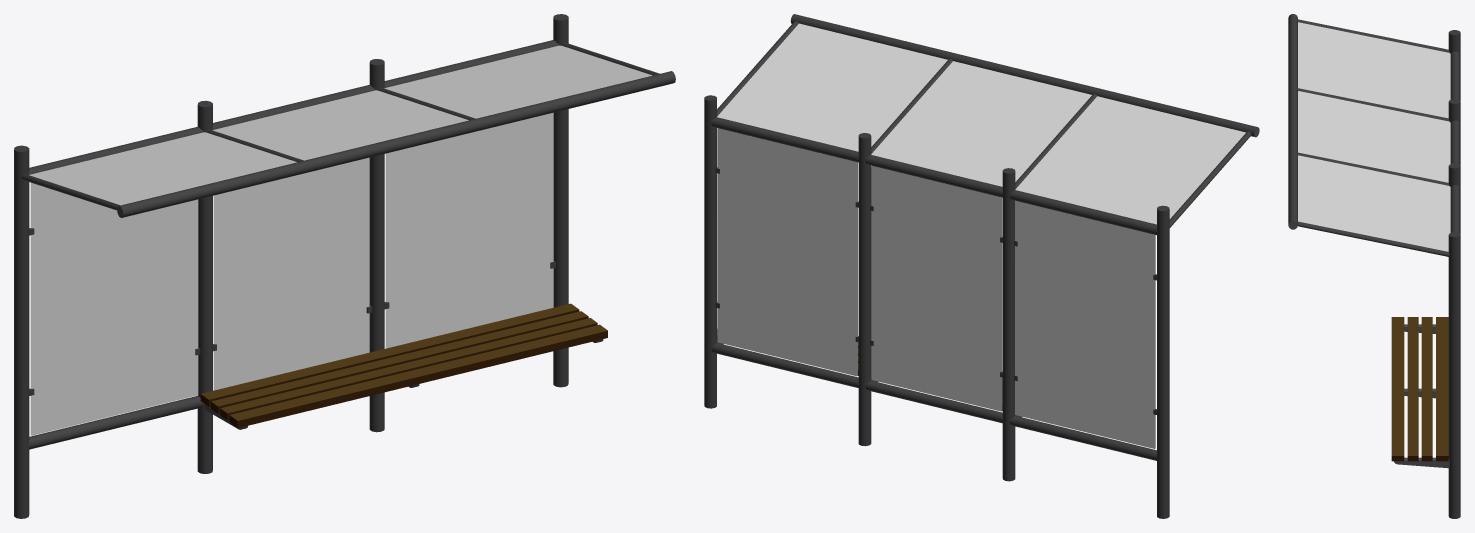
File: BusStop-01.fbx
3 views of the same model, side by side, from view 1: azimuth 30°, elevation 25°; view 2: azimuth 150°, elevation 25°; view 3: azimuth 270°, elevation 25° (orthographic). The views are drawn at different scales.
Visible parts, largest first — view 1: BusStop-01; view 2: BusStop-01; view 3: BusStop-01.
Boxes of the visible parts, left/top/right/bottom form: BusStop-01: left=14, top=14, right=675, bottom=518; BusStop-01: left=704, top=14, right=1259, bottom=518; BusStop-01: left=1288, top=14, right=1460, bottom=518.
Size of what is drawn, in the model's own units: 4.1 by 2.75 by 1.44.
